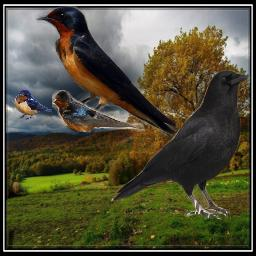Crow: (111, 67, 251, 220)
Swallow: (35, 6, 178, 137), (52, 90, 145, 132), (12, 89, 52, 120)
